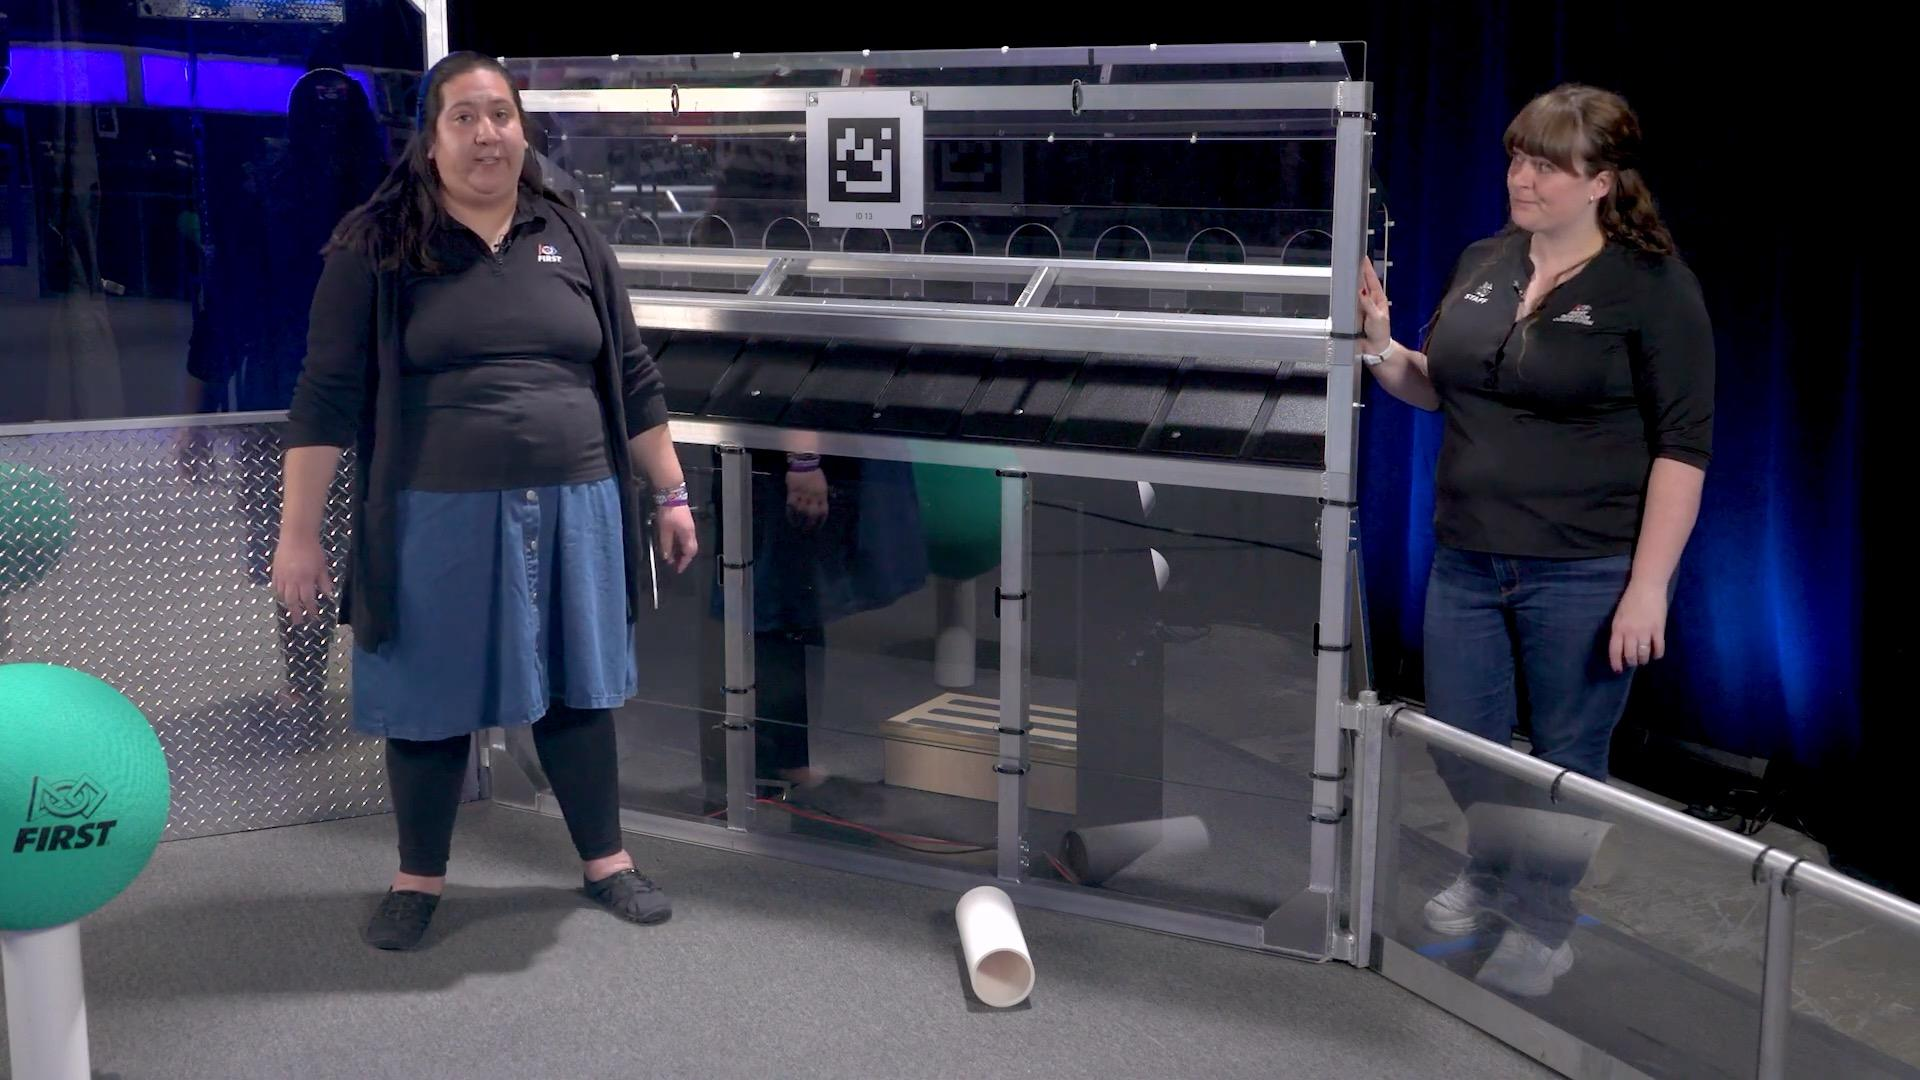ALGAE: (0, 662, 171, 934)
CORAL: (0, 920, 92, 1080), (956, 886, 1036, 1009)
